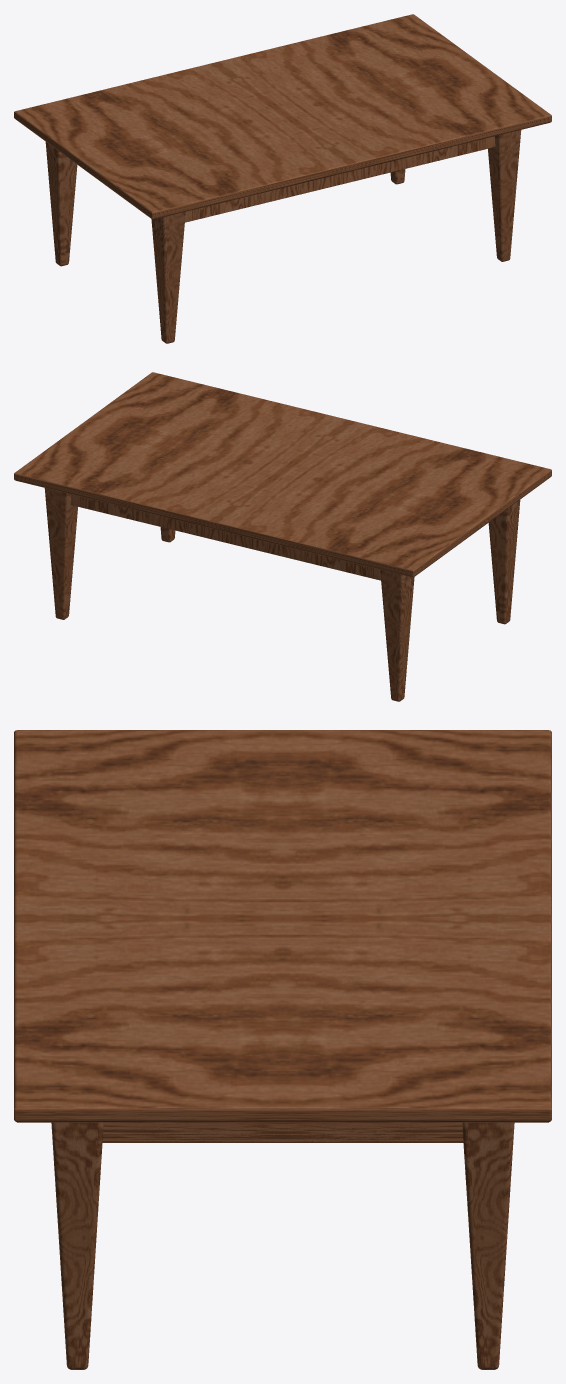
The model's file is table.fbx.
3 renders of one model, top to bottom at view 1: azimuth 30°, elevation 25°; view 2: azimuth 150°, elevation 25°; view 3: azimuth 270°, elevation 25°, orthographic. The views are drawn at different scales.
Parts seen in each view (by area): view 1: Cube; view 2: Cube; view 3: Cube.
Part boxes in pixels (<box>): Cube: <box>14,14,551,343</box>; Cube: <box>14,372,551,701</box>; Cube: <box>14,730,551,1369</box>.
Size of the model in its own units: 200 by 71.3 by 120.
1 material, 1 textured.
